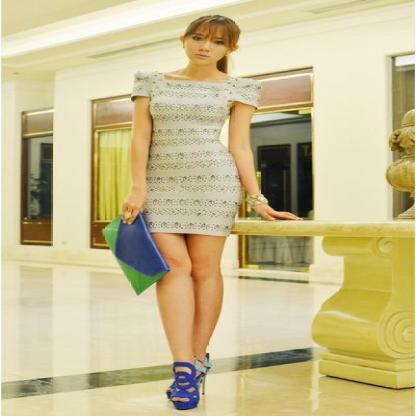bag: (115, 211, 170, 283)
dress: (134, 72, 261, 237)
shoe: (167, 352, 211, 410)
